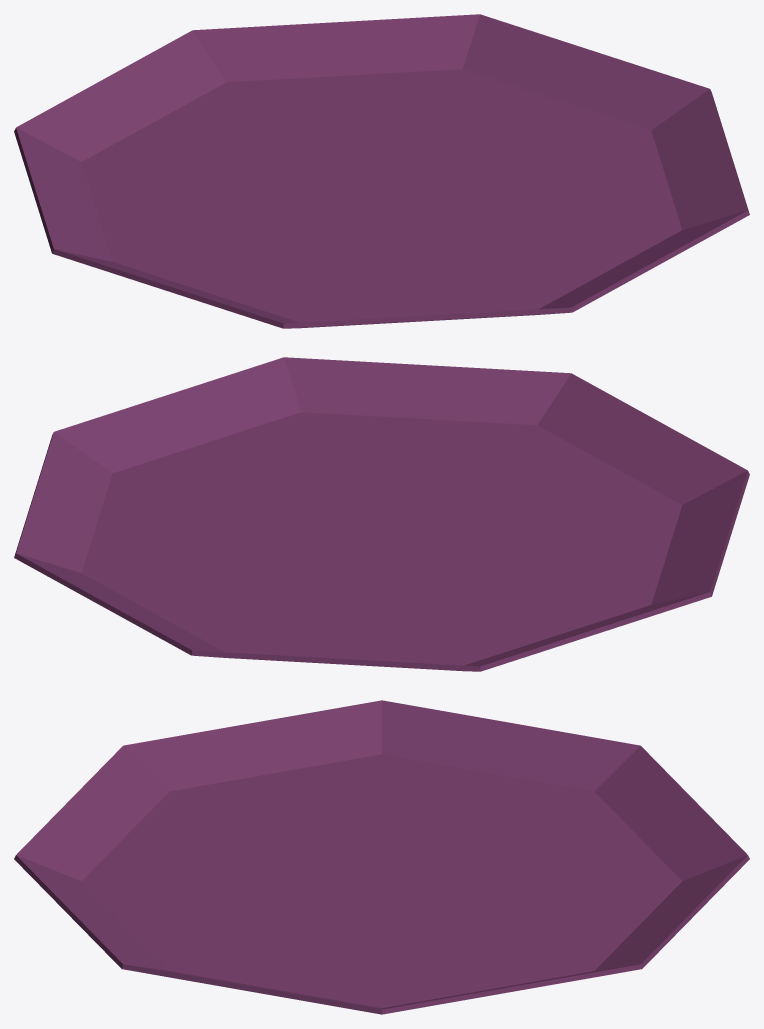
The model's file is plate.glb.
3 renders of one model, top to bottom at view 1: azimuth 30°, elevation 25°; view 2: azimuth 150°, elevation 25°; view 3: azimuth 270°, elevation 25°, orthographic. The views are drawn at different scales.
Parts seen in each view (by area): view 1: plate; view 2: plate; view 3: plate.
Boxes of the visible parts, box(x1,y1,x2,y2) form: plate: box(14, 14, 749, 328); plate: box(14, 357, 749, 671); plate: box(14, 700, 749, 1014).
Bounding box in the file's own units: 0.9095 × 0.0419 × 0.9095.
Materials: 1 (1 with a texture image).
